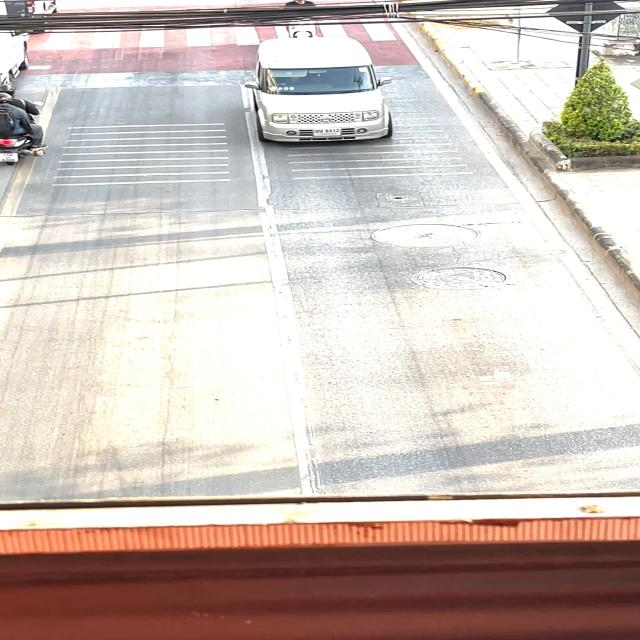car: (244, 29, 395, 155)
